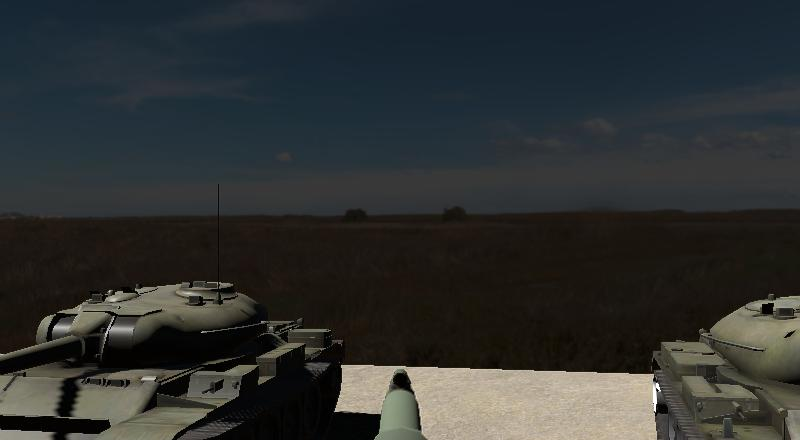Tank: (1, 276, 345, 440), (650, 284, 800, 440)
